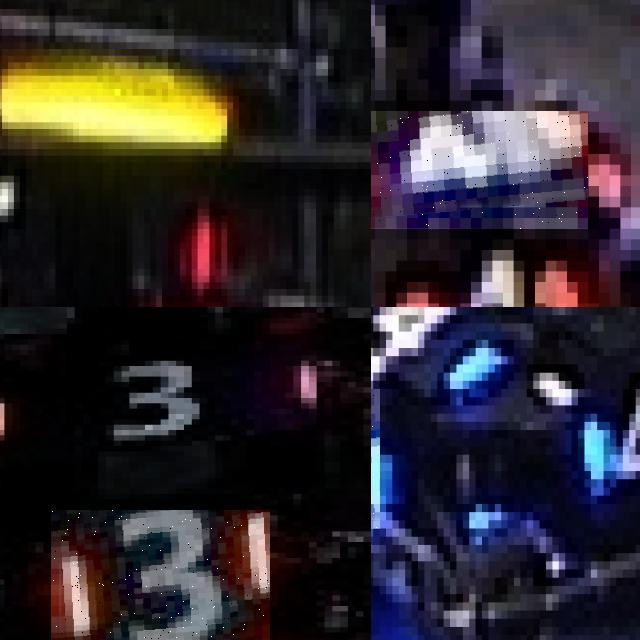B4: (371, 307, 514, 388), (578, 372, 640, 495)
R3: (51, 510, 269, 640)
R4: (371, 111, 588, 228), (371, 239, 588, 307)
